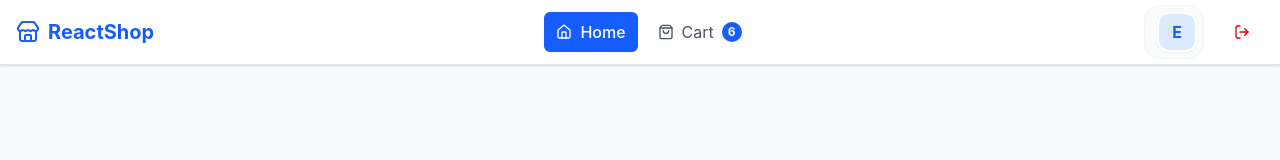
Test: Navbar › Logged in user › should log the user out when clicking logout
What coordinates should you click on to do the following:
click the button named "Logout"
I would click on:
 (1242, 32)
Its box is [1220,16,1264,48].
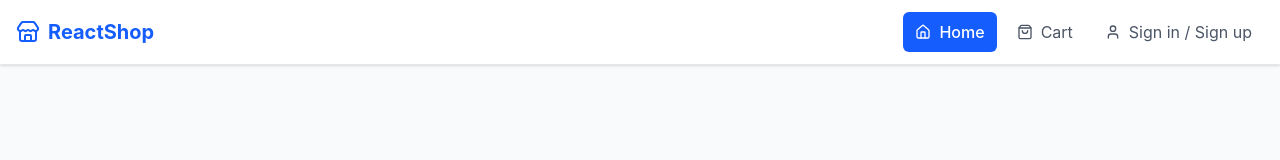
Expected: the link "Sign in / Sign up" is shown, [1105,22,1252,42]
